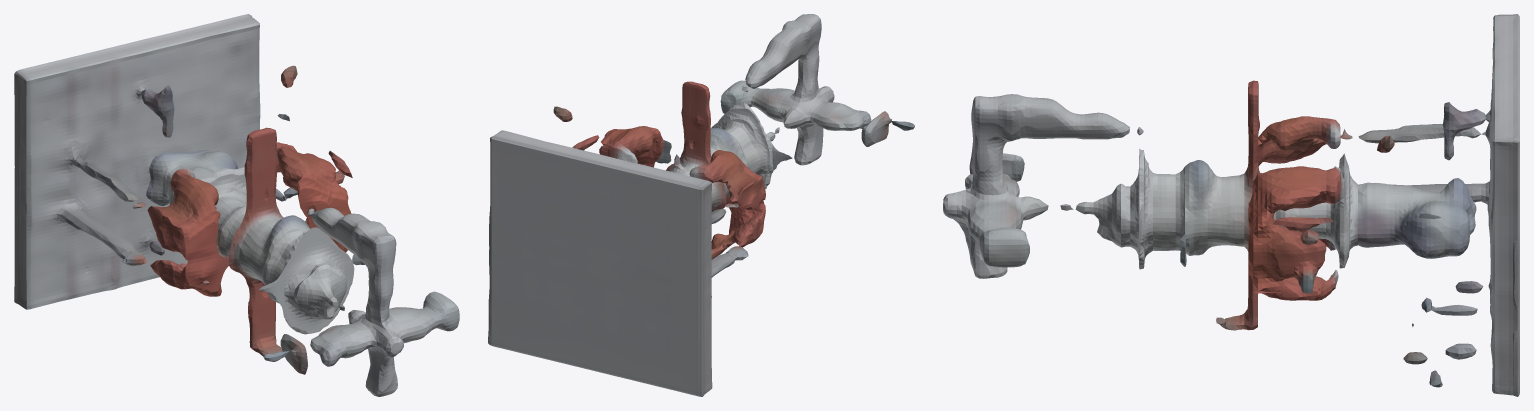
3 views of the same model, side by side, from view 1: azimuth 30°, elevation 25°; view 2: azimuth 150°, elevation 25°; view 3: azimuth 270°, elevation 25° (orthographic). The views are drawn at different scales.
Bounding box in the file's own units: 1.1 × 0.966 × 1.96.
